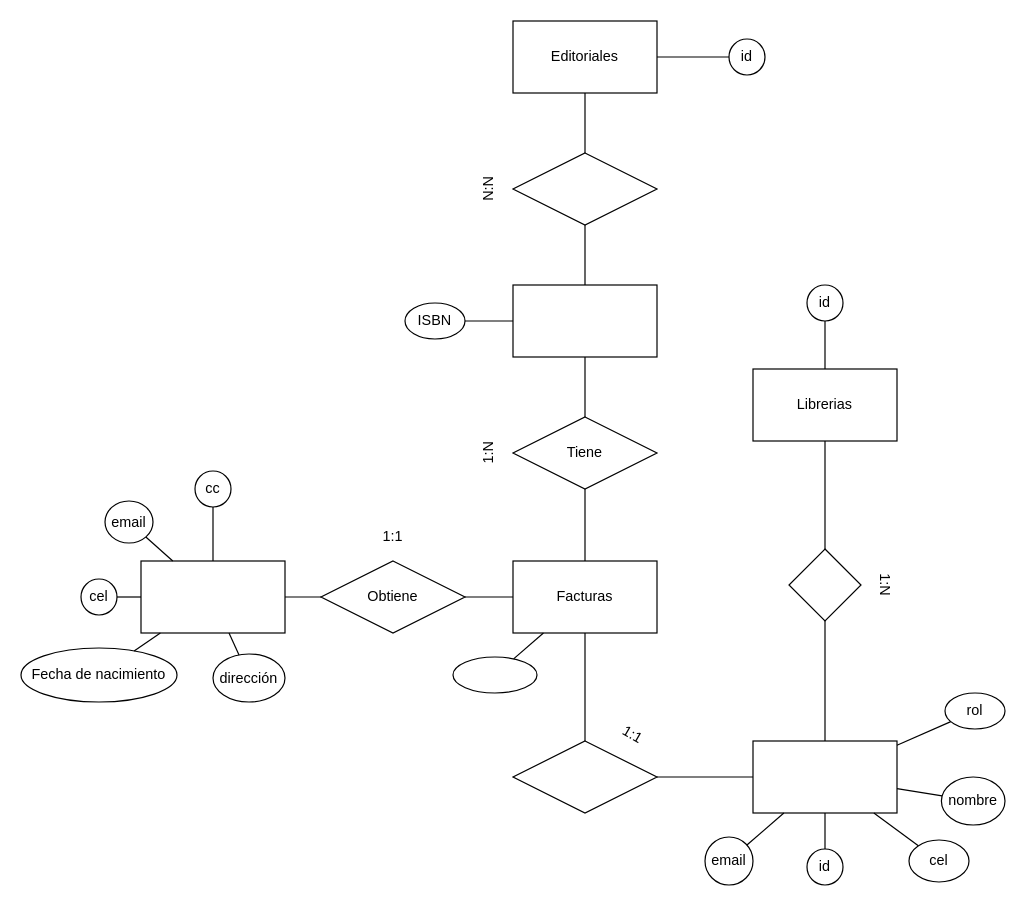
Some shapes in this 1026 by 906 pixel diagram are drawn without their labels. Here are the shapes that lost their labels. From the top down, the centre of each, then its label:
At point (584, 188): "Distribuye".
At point (584, 320): "Libros".
At point (212, 596): "Clientes".
At point (824, 584): "Trabaja".
At point (494, 674): "N. Factura".
At point (584, 776): "Generan".
At point (824, 776): "Empleados".
